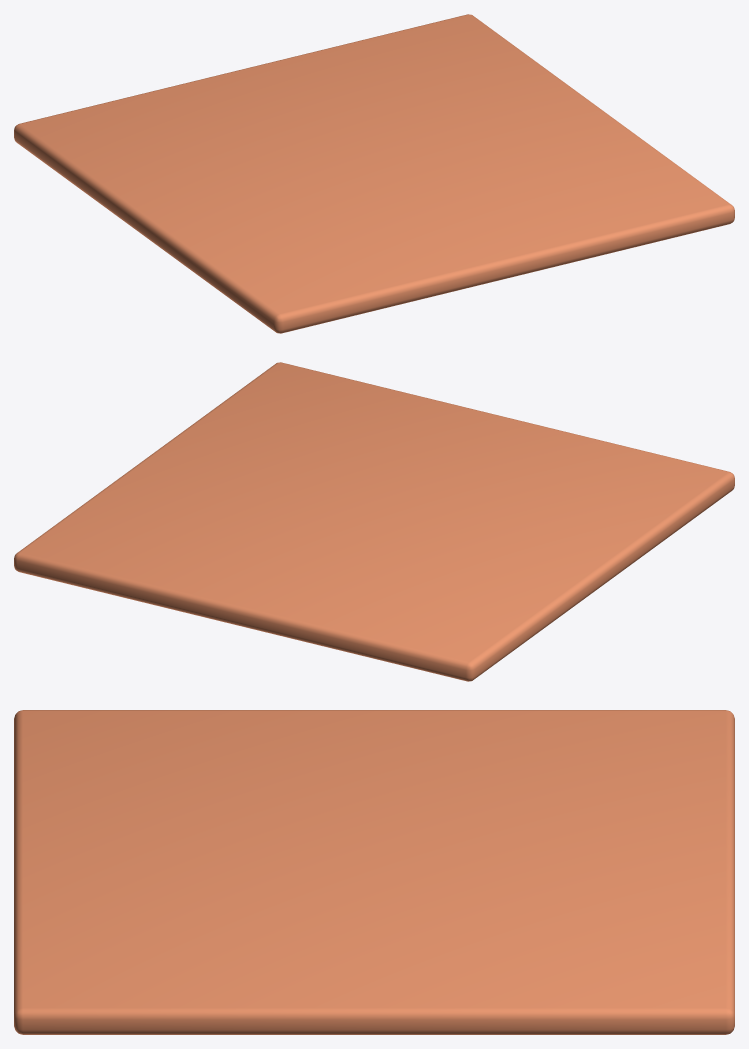
The model's file is floor-tile-coral.glb.
3 renders of one model, top to bottom at view 1: azimuth 30°, elevation 25°; view 2: azimuth 150°, elevation 25°; view 3: azimuth 270°, elevation 25°, orthographic. The views are drawn at different scales.
Parts seen in each view (by area): view 1: floor.001; view 2: floor.001; view 3: floor.001.
Boxes of the visible parts, <box> form: floor.001: <box>14,14,734,333</box>; floor.001: <box>14,362,734,681</box>; floor.001: <box>14,710,734,1034</box>.
Size of the model in its own units: 2 by 0.08 by 2.
